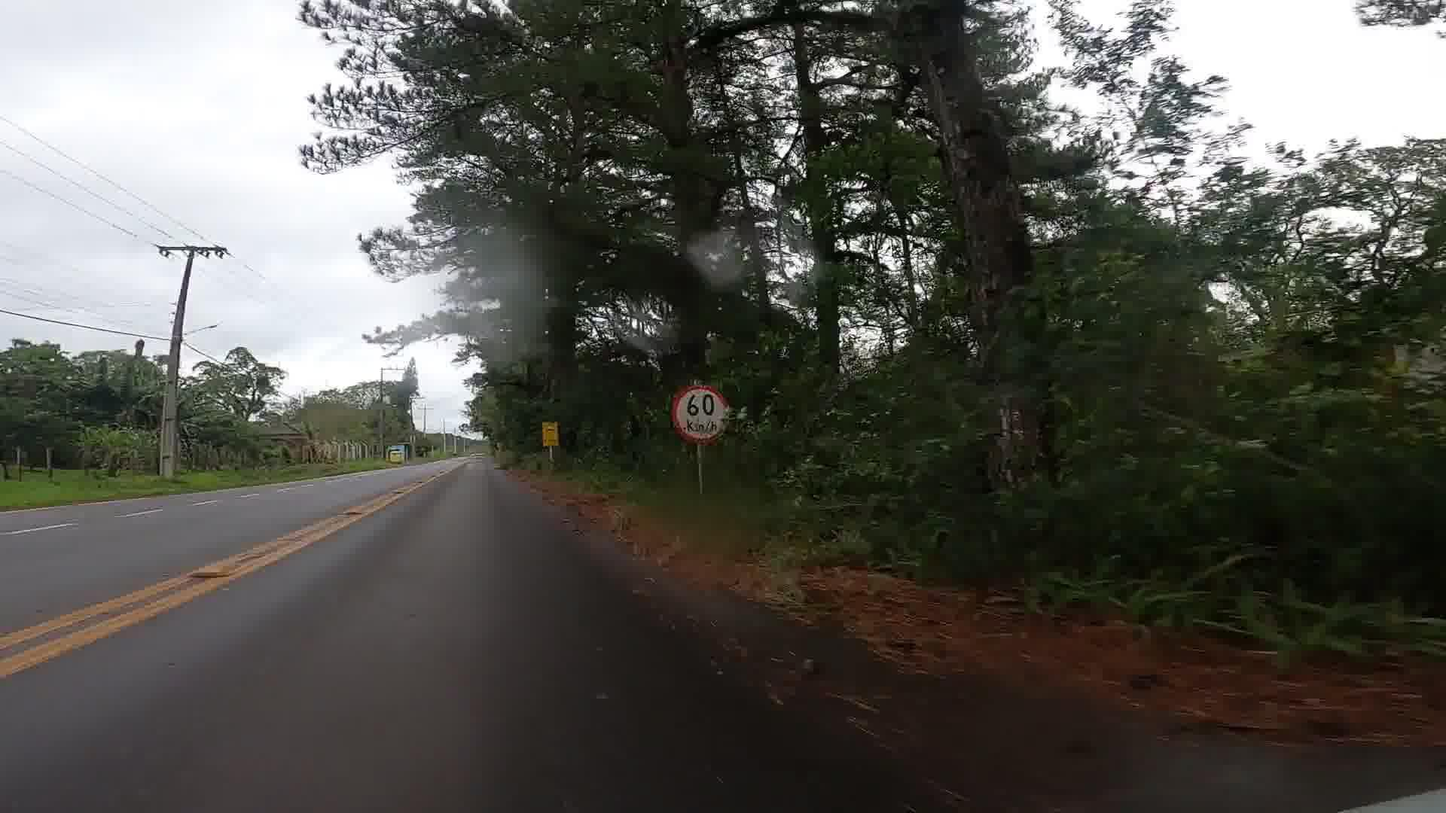R-19: (672, 381, 730, 444)
